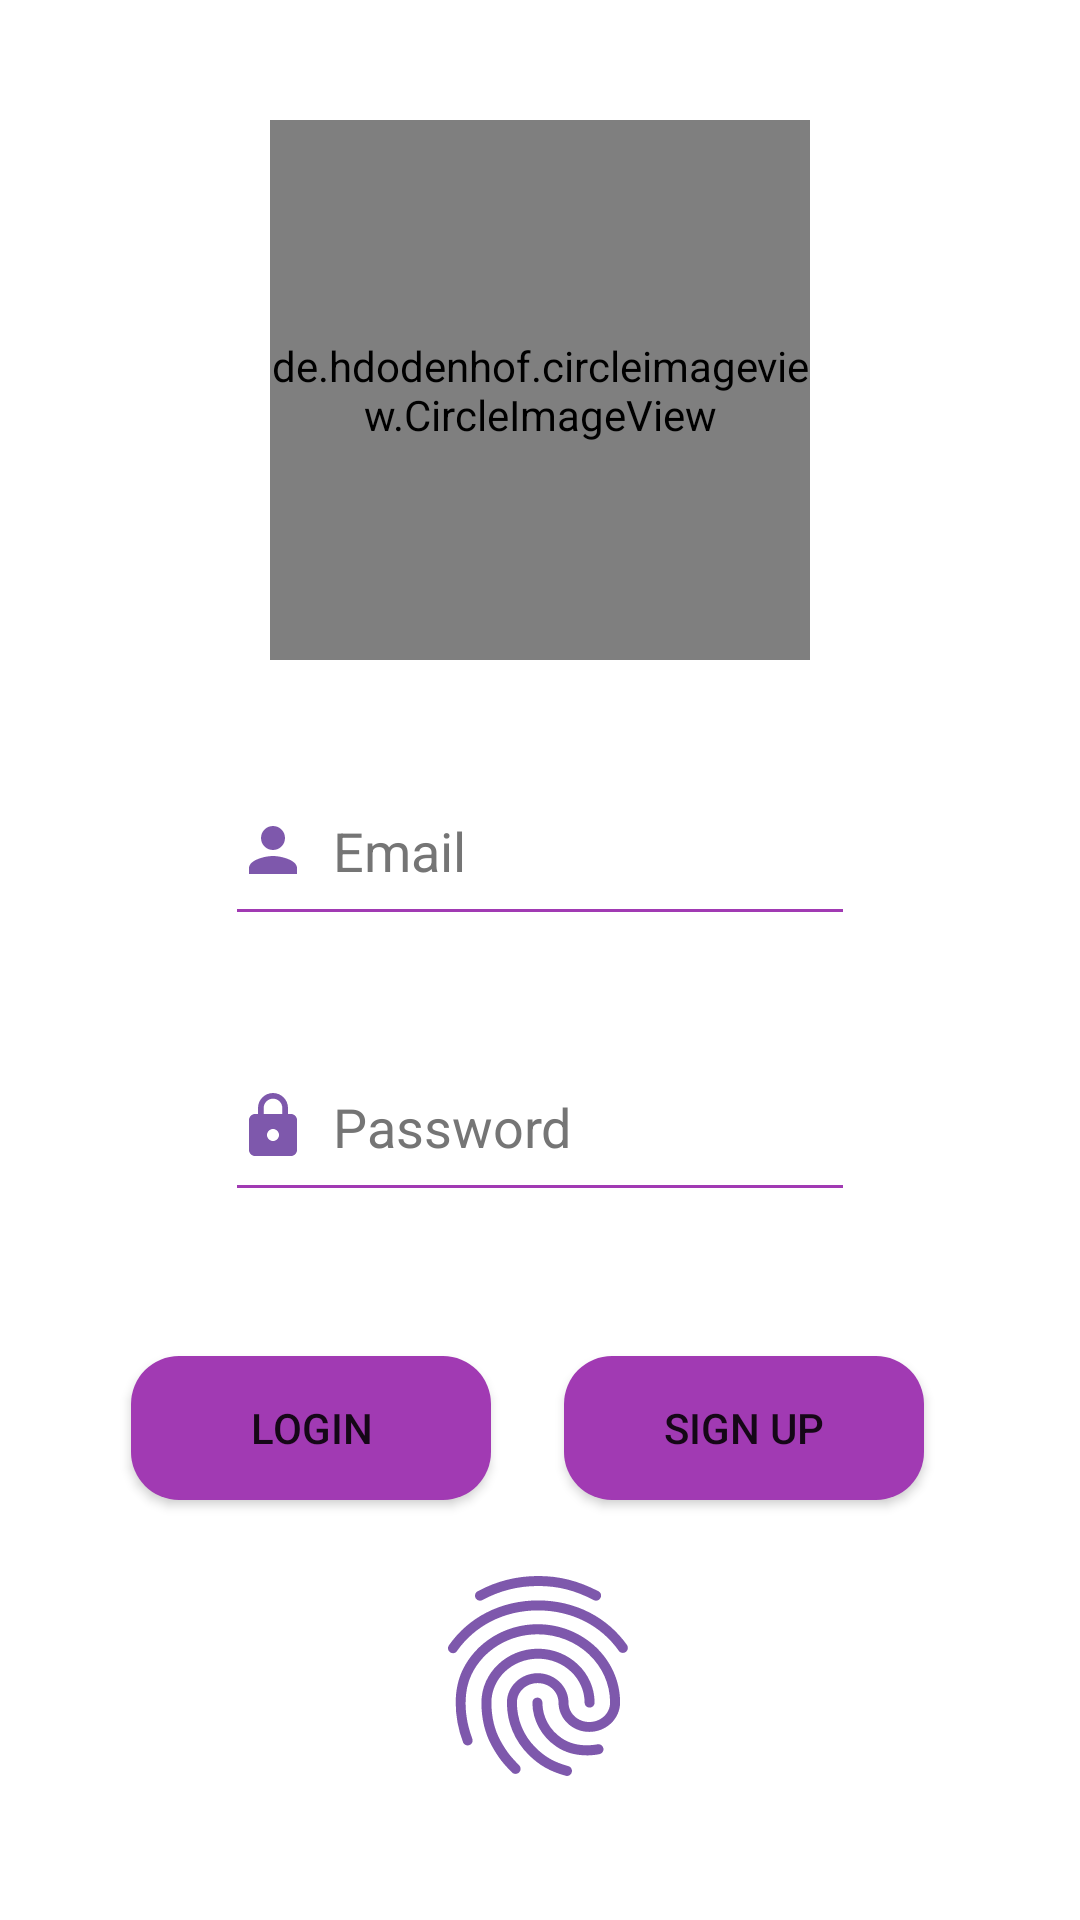

Named icons in this screenshot (1080 × 1920) and their centers, [x,y]:
finger print: [538,1676]
